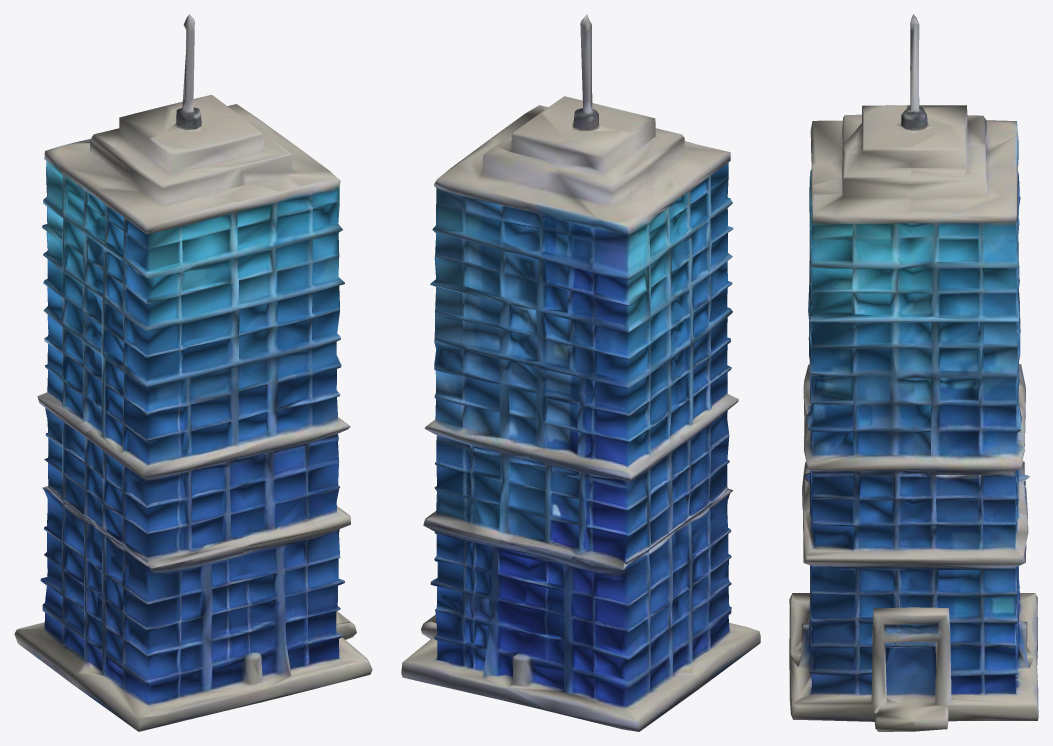
The model's file is office.glb.
The picture shows the model from 3 angles, left to right: view 1: azimuth 30°, elevation 25°; view 2: azimuth 150°, elevation 25°; view 3: azimuth 270°, elevation 25°; orthographic projection.
Visible parts, largest first — view 1: node_09383f92-bebf-456e-b9df-6afa272c8f98; view 2: node_09383f92-bebf-456e-b9df-6afa272c8f98; view 3: node_09383f92-bebf-456e-b9df-6afa272c8f98.
Part boxes in pixels (x1,y1,x2,y2): node_09383f92-bebf-456e-b9df-6afa272c8f98: [14, 14, 372, 731]; node_09383f92-bebf-456e-b9df-6afa272c8f98: [401, 14, 760, 731]; node_09383f92-bebf-456e-b9df-6afa272c8f98: [789, 14, 1038, 731].
Size of the model in its own units: 0.4226 by 0.9996 by 0.3484.
1 material, 1 textured.
